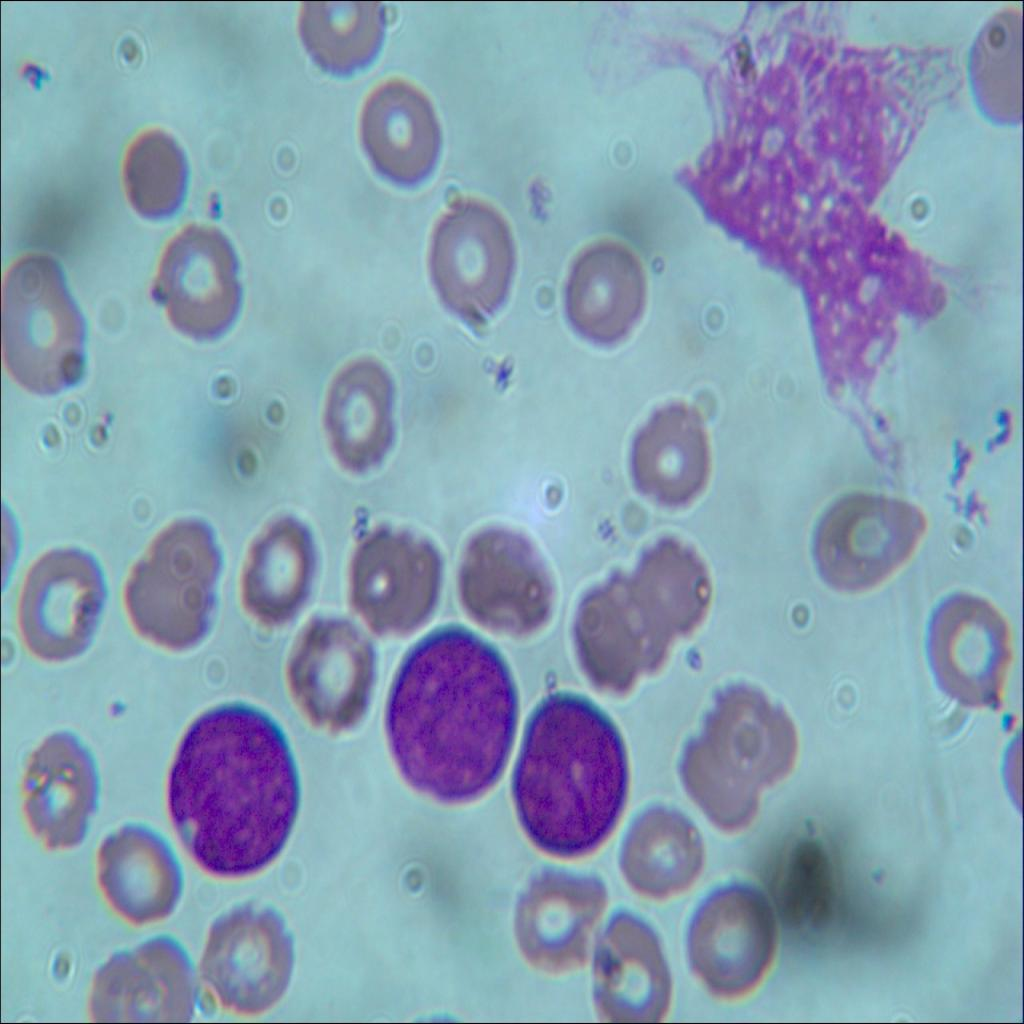Eritrosit: (454, 505, 568, 642), (554, 218, 658, 360), (118, 512, 224, 649), (0, 251, 93, 402), (676, 874, 778, 1010), (806, 492, 930, 600), (351, 64, 449, 194), (426, 191, 516, 332), (16, 538, 110, 671), (282, 605, 378, 734), (146, 216, 242, 344), (922, 586, 1023, 705), (626, 398, 724, 514), (199, 898, 298, 1012), (16, 722, 98, 859), (230, 511, 324, 630), (512, 858, 606, 975), (701, 678, 798, 790), (349, 515, 438, 635), (581, 904, 669, 1023), (641, 517, 716, 652), (680, 728, 766, 840), (109, 122, 196, 227), (91, 828, 182, 925), (574, 584, 648, 698), (615, 804, 701, 900), (598, 564, 670, 678), (291, 0, 388, 78), (126, 932, 195, 1023), (86, 950, 161, 1023)
Limfoblast: (166, 691, 312, 888), (386, 622, 518, 801), (504, 684, 629, 858)
Platelet: (104, 684, 130, 724), (871, 402, 896, 442)
